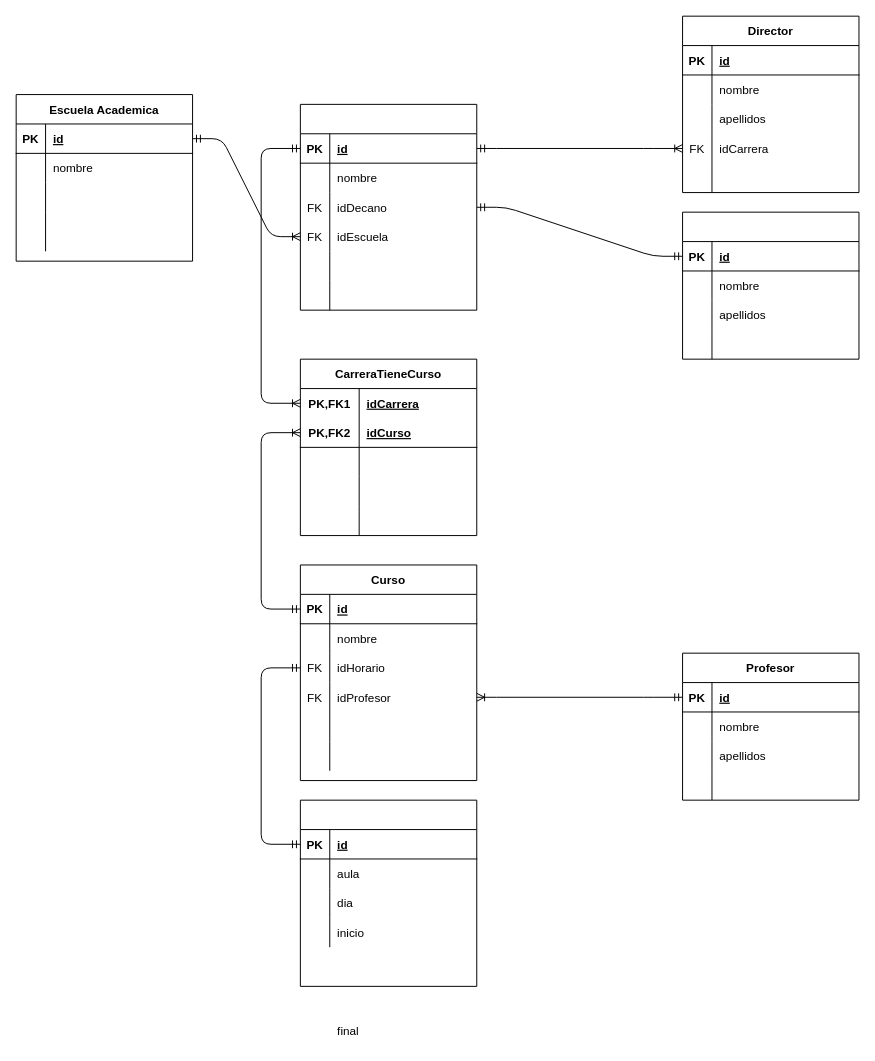
Image size: 875x1061. Some labels were removed from this diagram. The box of each missing label's shape, as (x1, y1, x2, y2) in pixels:
Carrera: (299, 103, 477, 310)
Decano: (682, 211, 859, 359)
Horario: (299, 799, 477, 986)
